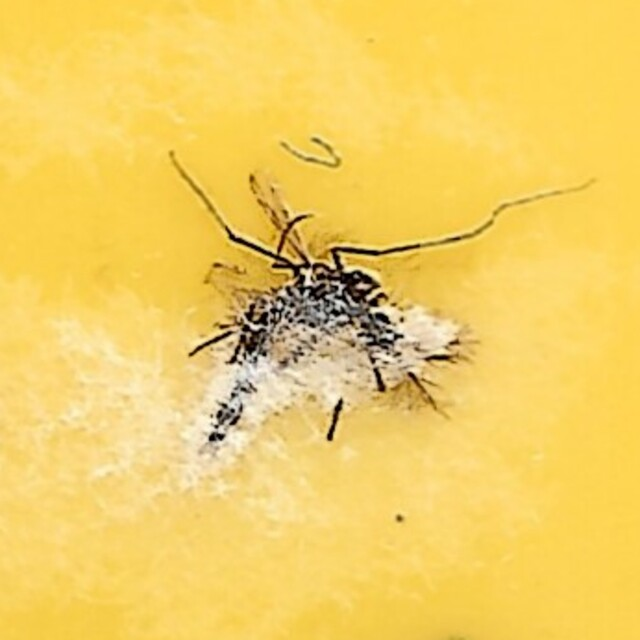Nematocera: (185, 176, 455, 464)
